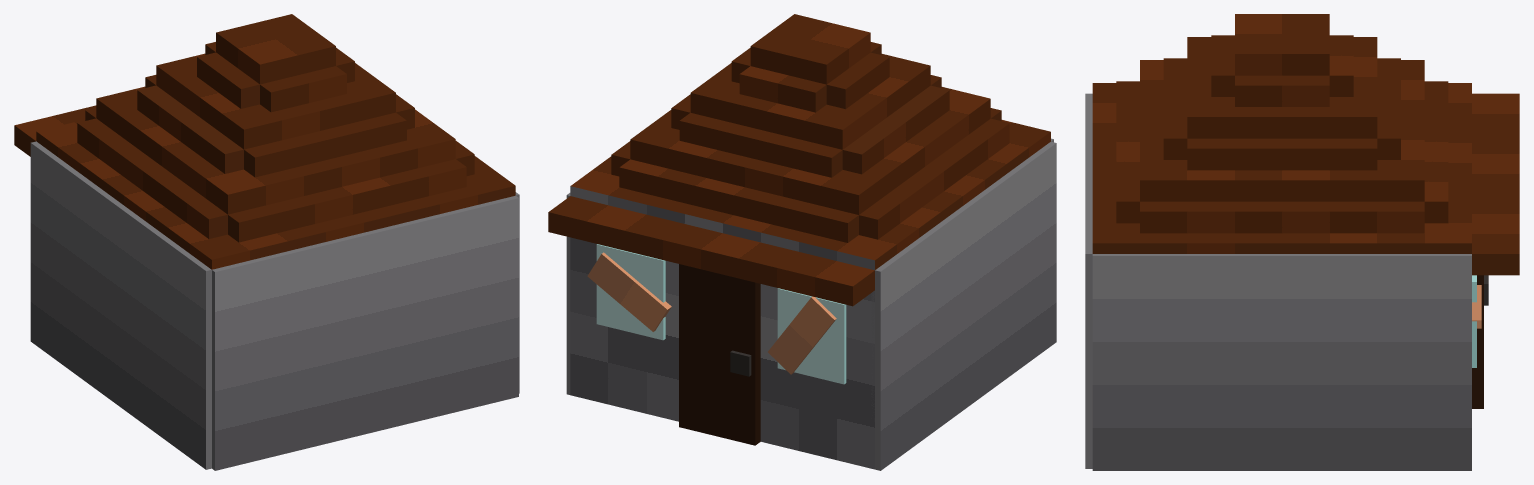
Rendered from revolution_base_revolt.glb.
3 renders of one model, left to right at view 1: azimuth 30°, elevation 25°; view 2: azimuth 150°, elevation 25°; view 3: azimuth 270°, elevation 25°, orthographic. The views are drawn at different scales.
Parts seen in each view (by area): view 1: cube (×13); view 2: cube (×18); view 3: cube (×17).
Part boxes in pixels (box(x1,y1,x2,y2)): cube (×13): box(14, 14, 518, 470); cube (×18): box(548, 14, 1056, 470); cube (×17): box(1085, 14, 1519, 470).
Bounding box in the file's own units: 0.5156 × 0.5156 × 0.5719.
Materials: 3 (3 with a texture image).
